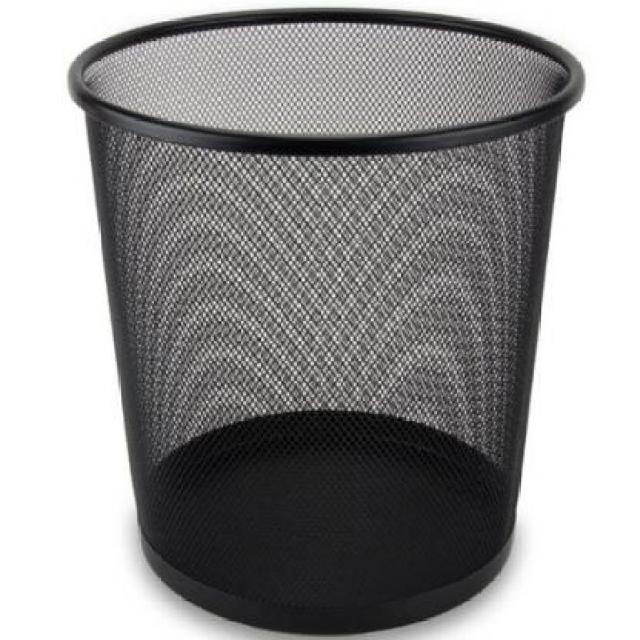dustbin: (60, 0, 589, 640)
